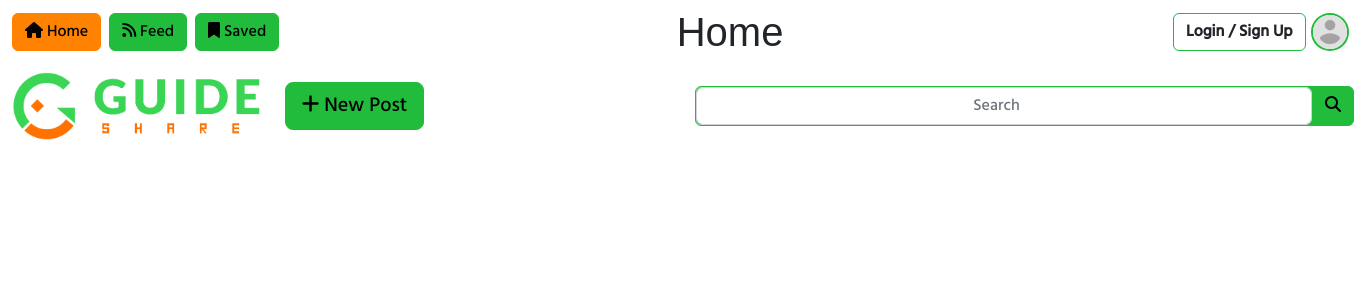
Scenario: renders account menu options
Click the button named "Login / Sign Up" at (1330, 32), box left=1311, top=13, right=1349, bottom=51
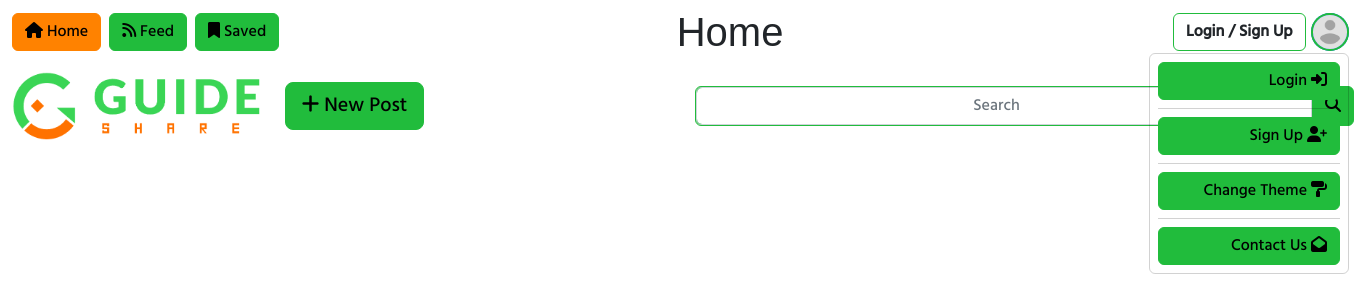
Check: the button "Login" is shown, box left=1158, top=62, right=1340, bottom=100
Check: the button "Sign Up" is shown, box left=1158, top=117, right=1340, bottom=155
